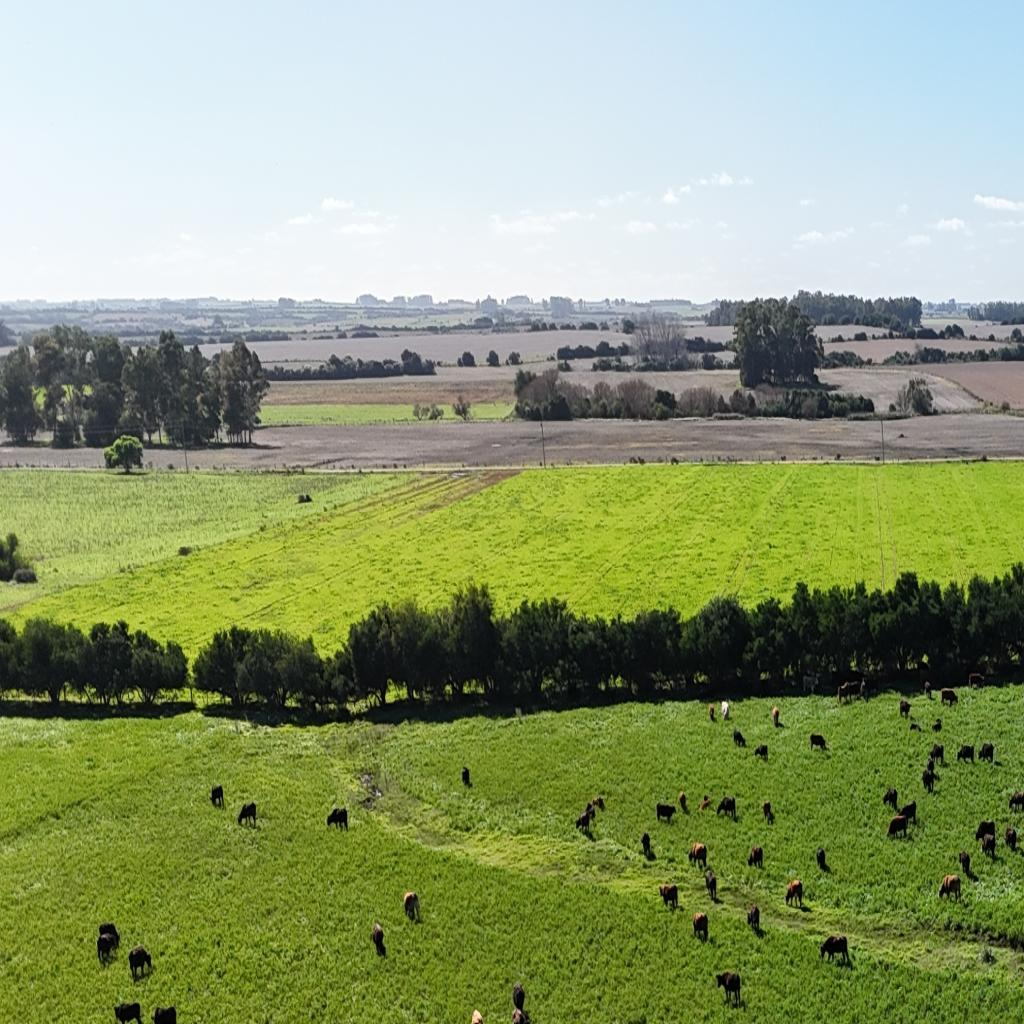cow: (128, 940, 158, 985), (576, 794, 605, 834), (715, 970, 741, 1007), (819, 935, 849, 965), (974, 820, 996, 856), (746, 836, 764, 879), (837, 678, 865, 704), (97, 933, 118, 966), (95, 916, 121, 941), (114, 1001, 142, 1024), (939, 875, 961, 903), (707, 702, 732, 725), (326, 806, 348, 832), (887, 814, 908, 840), (659, 884, 678, 912), (403, 891, 420, 922), (371, 921, 386, 956), (237, 801, 257, 827), (692, 911, 709, 941), (152, 1004, 176, 1024), (785, 879, 802, 907), (900, 800, 917, 828), (688, 842, 706, 867), (656, 802, 676, 824), (511, 980, 525, 1011), (717, 796, 735, 820), (747, 904, 760, 934), (705, 870, 717, 902), (978, 742, 996, 762), (1007, 790, 1024, 811), (882, 787, 898, 809), (922, 769, 936, 794), (940, 688, 958, 707), (816, 846, 829, 872), (1005, 825, 1018, 851), (959, 850, 971, 878), (957, 744, 975, 762), (512, 1006, 530, 1024), (810, 733, 827, 752), (211, 785, 225, 808), (640, 832, 652, 858), (588, 795, 604, 814), (931, 744, 944, 764), (715, 972, 730, 989), (762, 800, 773, 822), (733, 730, 746, 748), (754, 744, 768, 760), (678, 792, 688, 814), (969, 673, 983, 688), (471, 1008, 484, 1024), (900, 699, 910, 719), (926, 759, 936, 776), (772, 706, 780, 727), (700, 796, 711, 811), (462, 767, 470, 787), (932, 719, 943, 733), (924, 681, 932, 699), (910, 722, 922, 732), (709, 705, 715, 720)
